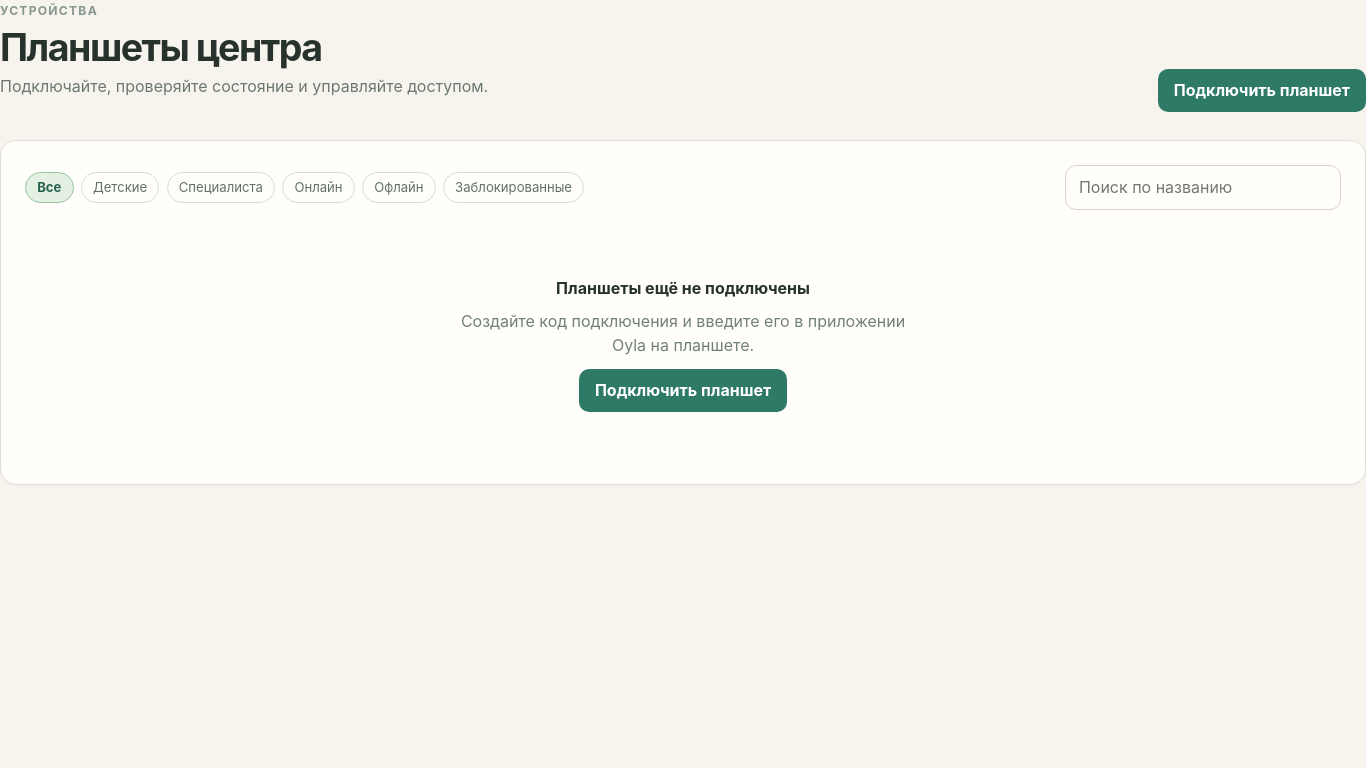
Test: web device flow › shows success when polling finds the newly activated device
The width and height of the screenshot is (1366, 768).
Check: the text "Планшеты ещё не подключены" is shown, box [556, 278, 810, 298]
Click the 1st button "Подключить планшет" at (1262, 90), box [1158, 69, 1365, 112]
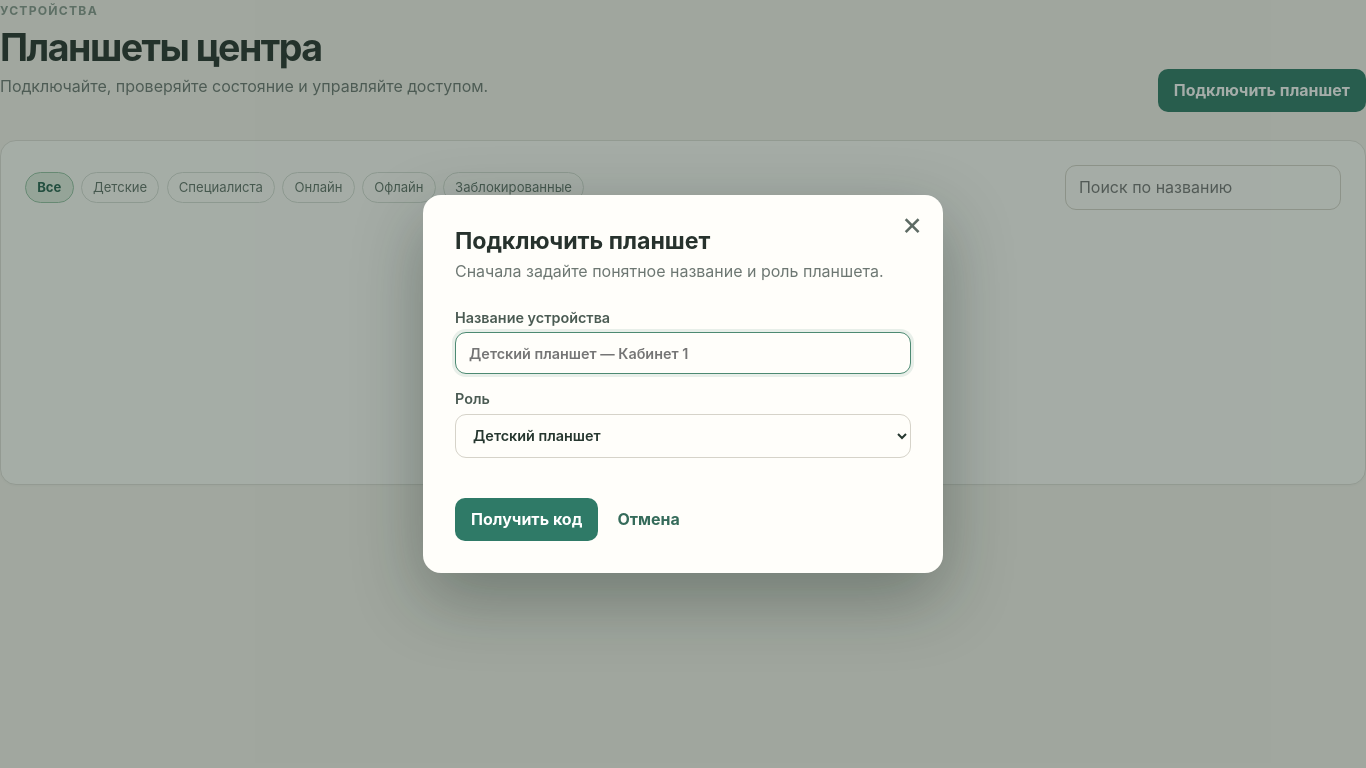
Type "Кабинет 1" into the field labelled "Название устройства" at (683, 353), box [455, 332, 911, 374]
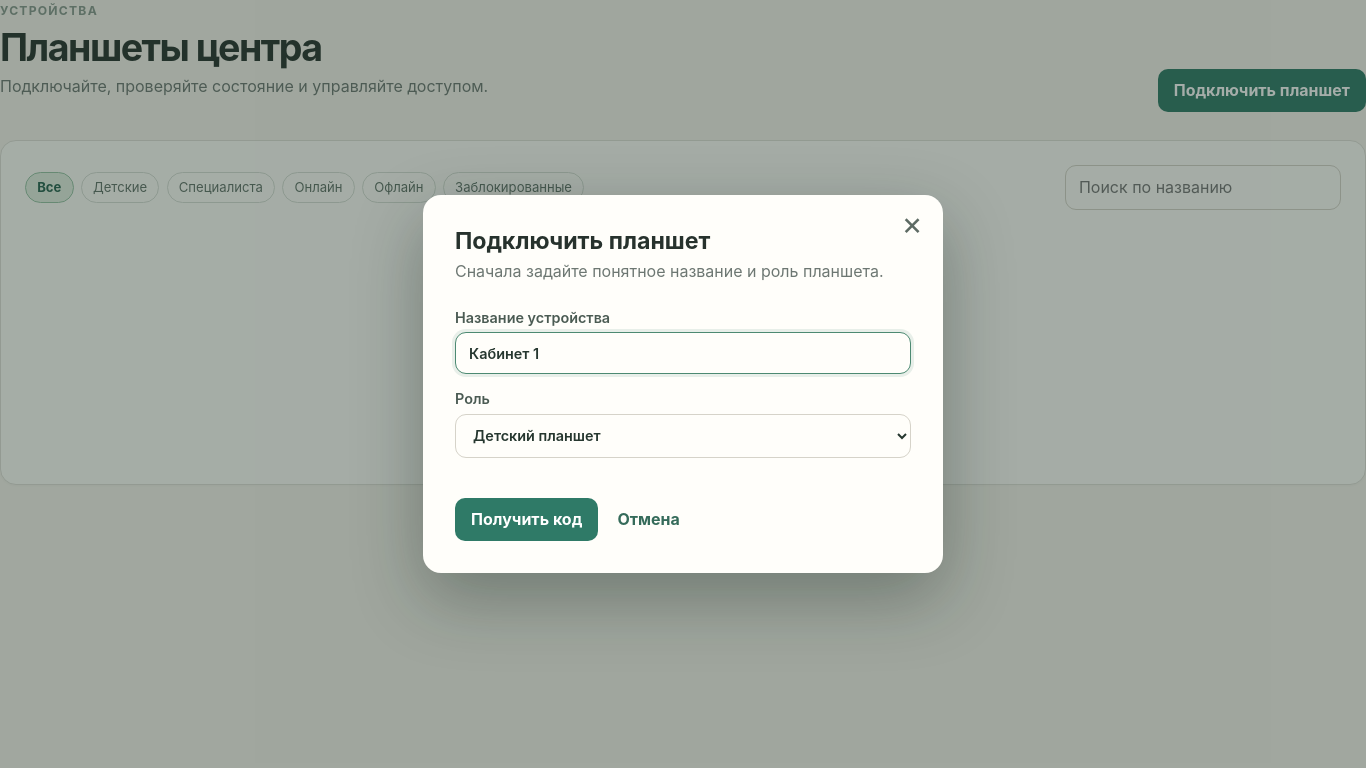
Click the button "Получить код" at (527, 519), box [455, 498, 598, 541]
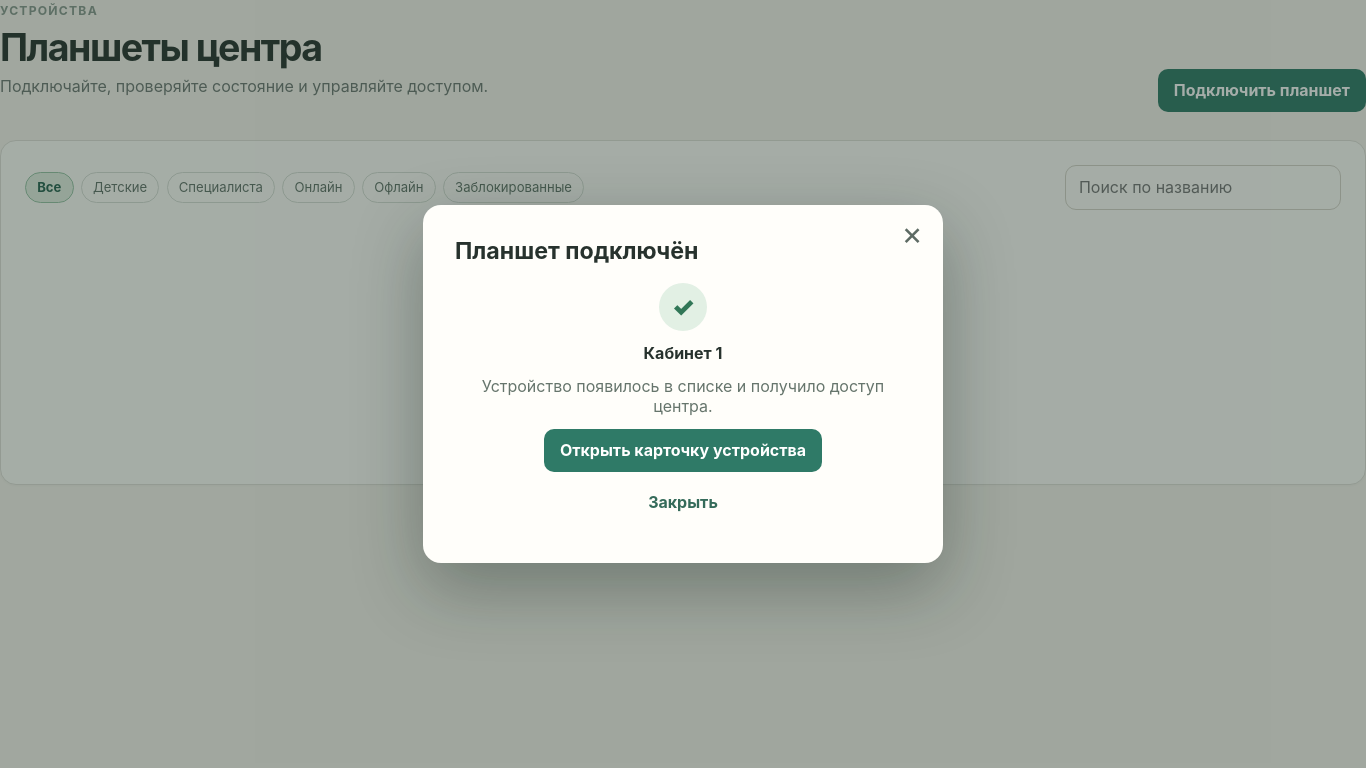
Check: the heading "Планшет подключён" is shown, box [455, 237, 698, 265]
